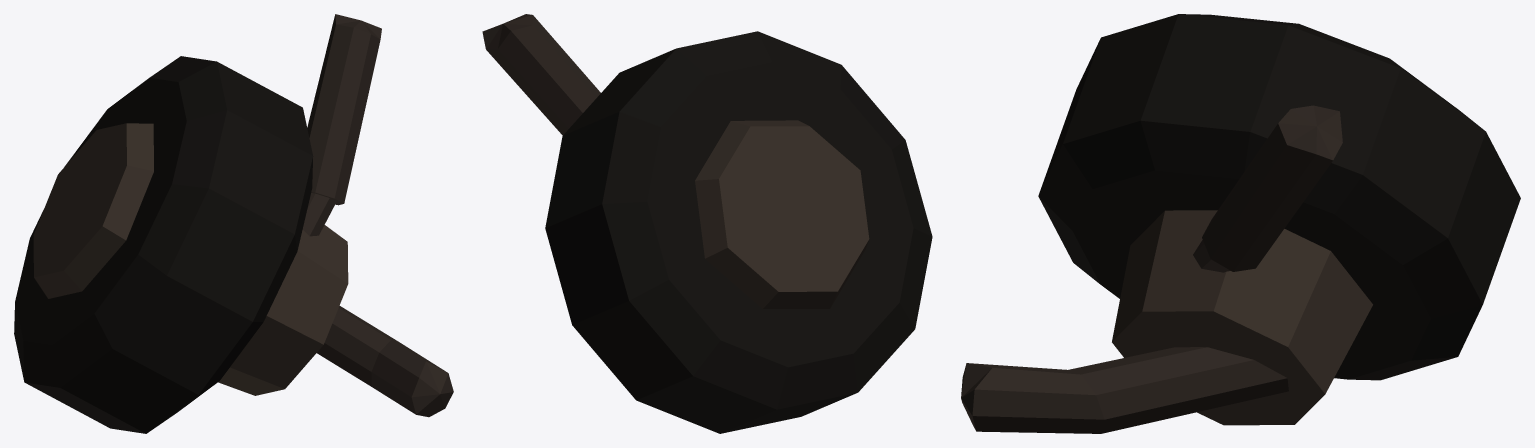
Rendered from SM_Prop_Vehicle_Debris_03.fbx.
3 views of the same model, side by side, from view 1: azimuth 30°, elevation 25°; view 2: azimuth 150°, elevation 25°; view 3: azimuth 270°, elevation 25° (orthographic). The views are drawn at different scales.
Visible parts, largest first — view 1: SM_Prop_Vehicle_Debris_03; view 2: SM_Prop_Vehicle_Debris_03; view 3: SM_Prop_Vehicle_Debris_03.
Boxes of the visible parts, <box> form: SM_Prop_Vehicle_Debris_03: <box>14,14,453,433</box>; SM_Prop_Vehicle_Debris_03: <box>482,14,932,433</box>; SM_Prop_Vehicle_Debris_03: <box>961,14,1520,433</box>.
Bounding box in the file's own units: 76.81 × 66.2 × 81.46.
